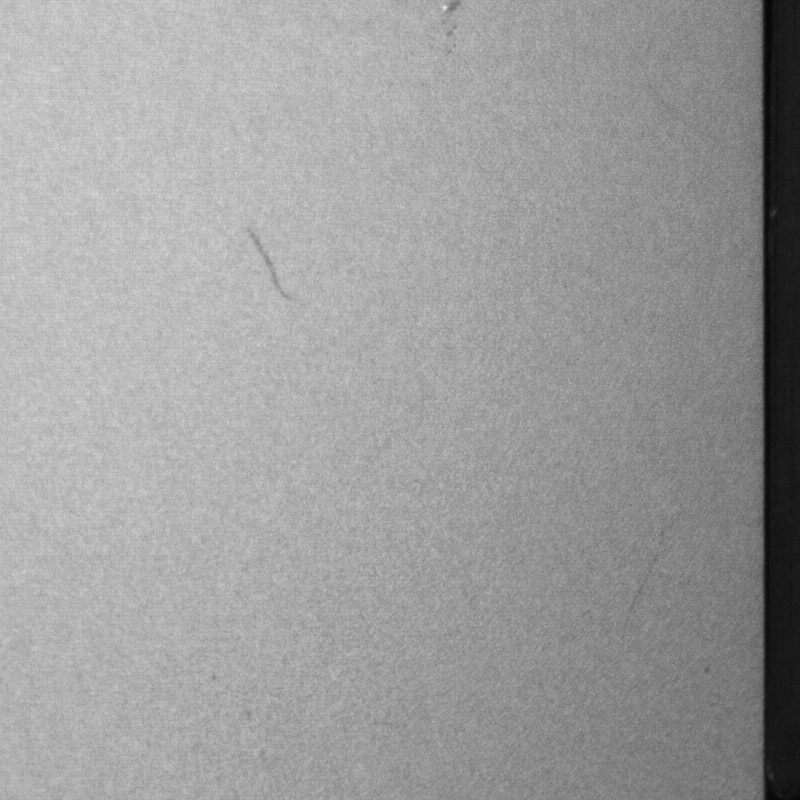defect: (246, 228, 299, 301), (616, 552, 654, 639), (431, 1, 464, 55)
